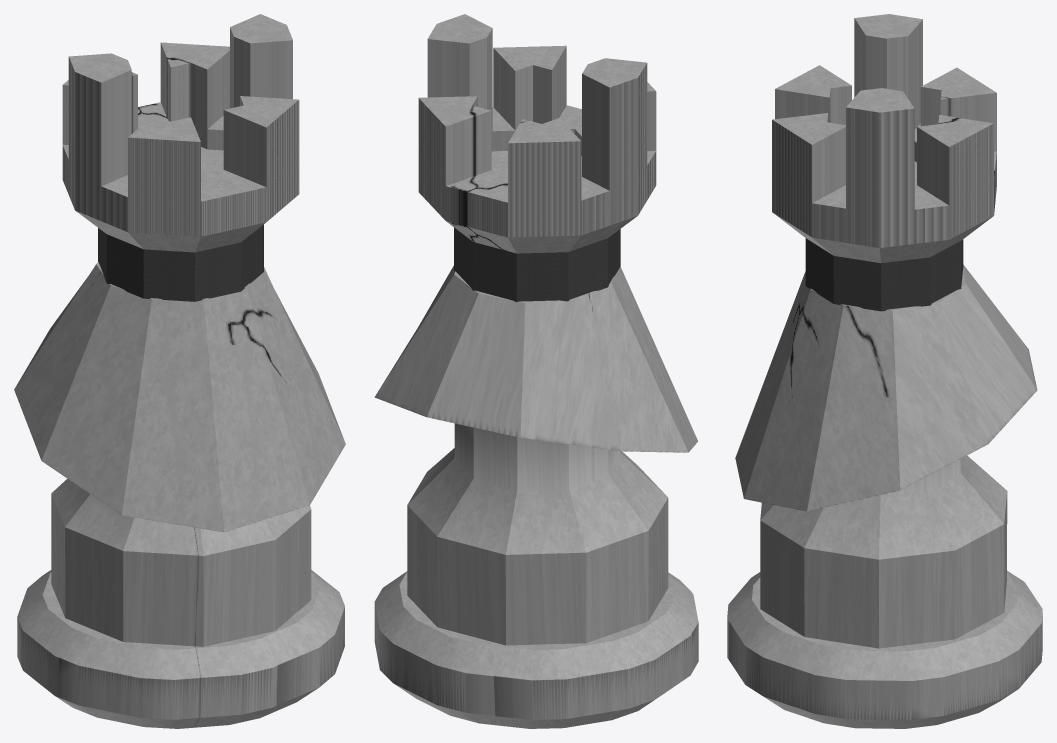
Rendered from BlackModel.fbx.
3 views of the same model, side by side, from view 1: azimuth 30°, elevation 25°; view 2: azimuth 150°, elevation 25°; view 3: azimuth 270°, elevation 25° (orthographic). The views are drawn at different scales.
Visible parts, largest first — view 1: Castillo; view 2: Castillo; view 3: Castillo.
Part boxes in pixels (x1,y1,x2,y2): Castillo: (14, 14, 345, 728); Castillo: (374, 14, 698, 728); Castillo: (727, 14, 1042, 728).
Bounding box in the file's own units: 3.18 × 6.5 × 3.06.
